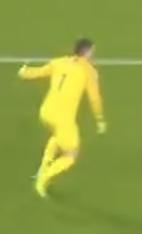goalkeeper: (7, 30, 123, 216)
